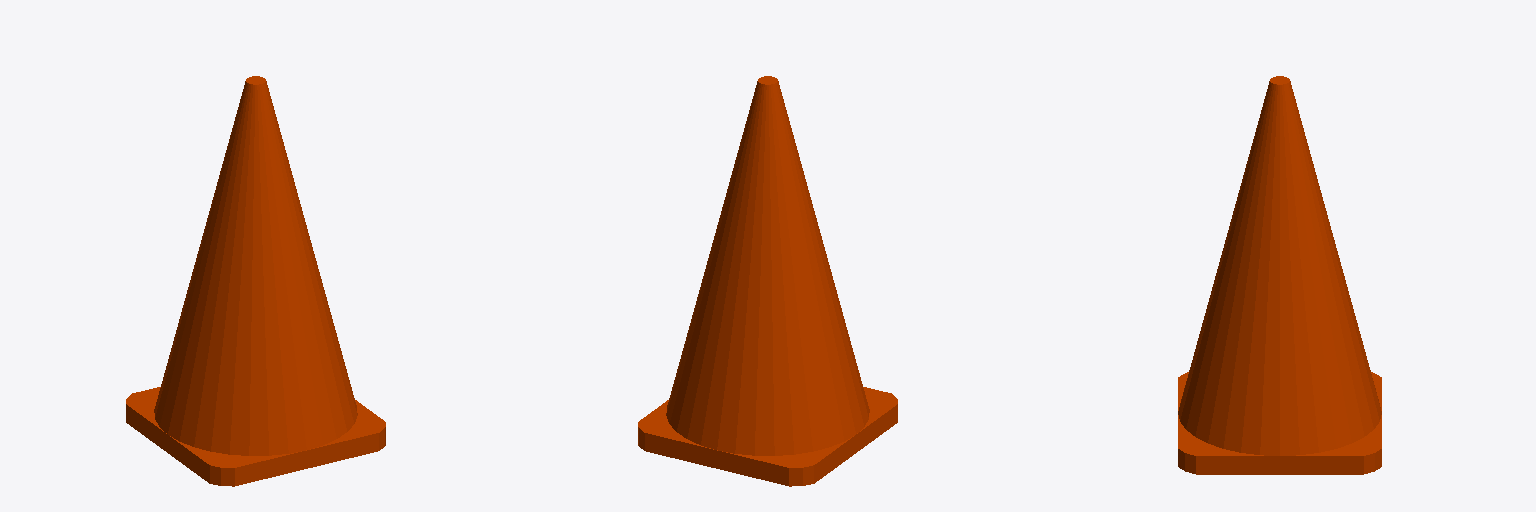
File: SkickCone.obj
3 renders of one model, left to right at view 1: azimuth 30°, elevation 25°; view 2: azimuth 150°, elevation 25°; view 3: azimuth 270°, elevation 25°, orthographic.
Visible parts, largest first — view 1: Cube; view 2: Cube; view 3: Cube.
Part boxes in pixels (x1,y1,x2,y2): Cube: (126,76,385,486); Cube: (638,76,897,486); Cube: (1178,76,1381,474).
Bounding box in the file's own units: 0.5 × 0.95 × 0.5.